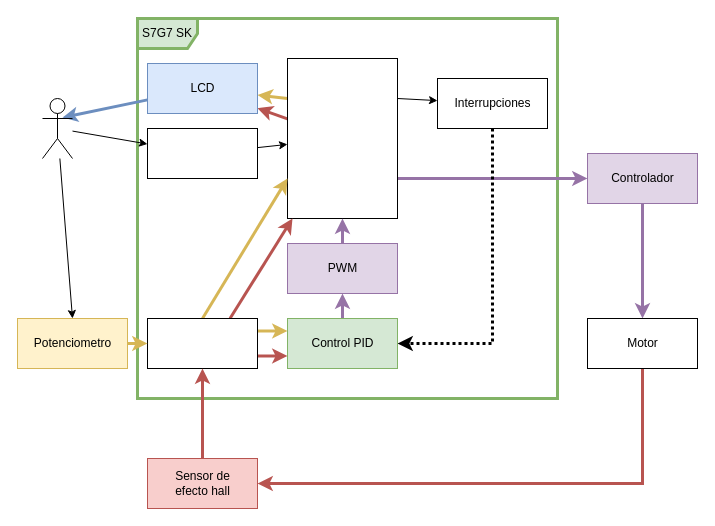
Some shapes in this 715 by 526 pixel diagram are drawn without their labels. The centre of each missing label's shape, as x and y in pixels:
Actor: pixel 57 128
Botón: pixel 202 153
I/O Analógicas: pixel 202 343
I/O Digitales: pixel 342 138
